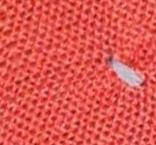hole: (106, 55, 148, 90)
